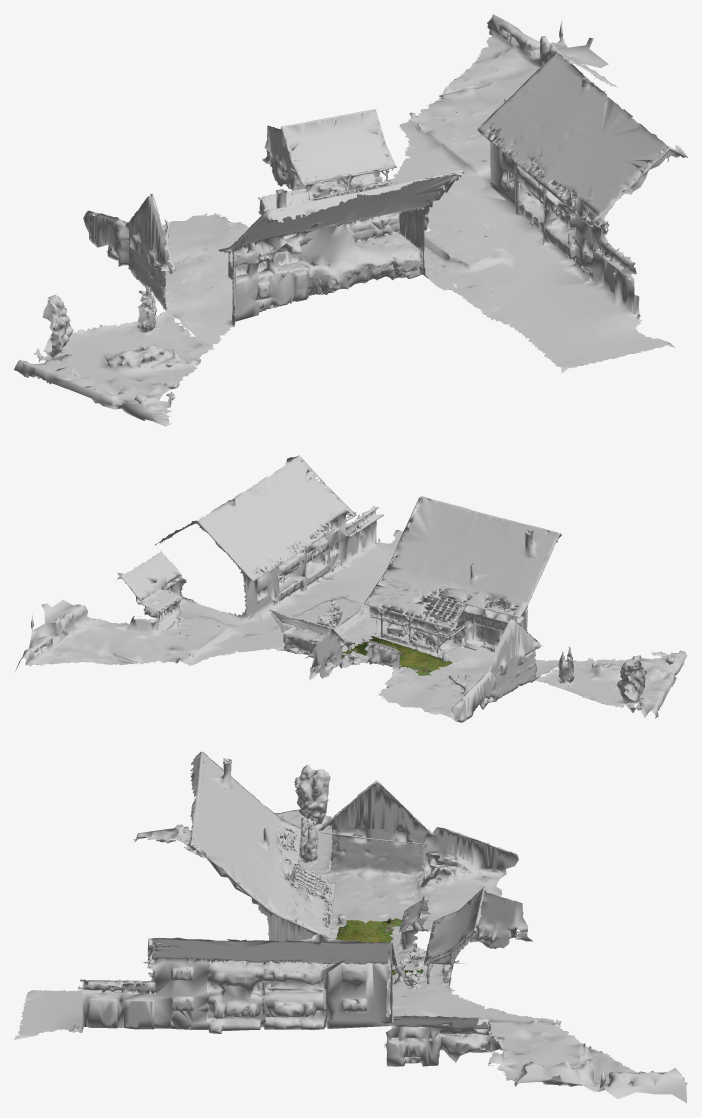
The model's file is Town.fbx.
3 renders of one model, top to bottom at view 1: azimuth 30°, elevation 25°; view 2: azimuth 150°, elevation 25°; view 3: azimuth 270°, elevation 25°, orthographic. The views are drawn at different scales.
Parts seen in each view (by area): view 1: model.005, model.004, model.007, model.008, model.002, model.011, model.009, model.006, model.003, model.010, model.012, model.013; view 2: model.006, model.005, model.003, model.008, model.002, model.004, model.007, model.009, model.010, model.011, model.012, model.001 (+1 smaller); view 3: model.005, model.006, model.009, model.004, model.002, model.003, model.010, model.011, model.007, model.008, model.013, model.001 (+1 smaller).
Part boxes in pixels (left/top/right/bottom): model.005: left=433, top=96, right=687, bottom=373; model.004: left=427, top=59, right=606, bottom=262; model.007: left=14, top=285, right=208, bottom=426; model.008: left=211, top=208, right=483, bottom=334; model.002: left=399, top=14, right=608, bottom=156; model.011: left=262, top=109, right=397, bottom=200; model.009: left=128, top=193, right=232, bottom=349; model.006: left=218, top=170, right=464, bottom=262; model.003: left=389, top=51, right=617, bottom=210; model.010: left=83, top=210, right=249, bottom=270; model.012: left=388, top=182, right=451, bottom=265; model.013: left=258, top=179, right=332, bottom=215; model.006: left=381, top=496, right=561, bottom=617; model.005: left=244, top=455, right=403, bottom=619; model.003: left=116, top=516, right=283, bottom=653; model.008: left=357, top=575, right=544, bottom=662; model.002: left=15, top=600, right=234, bottom=671; model.004: left=205, top=492, right=363, bottom=626; model.007: left=538, top=646, right=687, bottom=718; model.009: left=419, top=617, right=567, bottom=699; model.010: left=378, top=663, right=496, bottom=722; model.011: left=269, top=609, right=355, bottom=680; model.012: left=316, top=599, right=372, bottom=651; model.001: left=342, top=636, right=452, bottom=675; model.005: left=14, top=937, right=284, bottom=1039; model.006: left=187, top=751, right=301, bottom=919; model.009: left=294, top=780, right=428, bottom=923; model.004: left=264, top=934, right=396, bottom=1029; model.002: left=485, top=1008, right=687, bottom=1102; model.003: left=372, top=942, right=494, bottom=1066; model.010: left=406, top=827, right=518, bottom=929; model.011: left=418, top=886, right=532, bottom=992; model.007: left=133, top=764, right=333, bottom=874; model.008: left=267, top=836, right=346, bottom=941; model.013: left=390, top=896, right=433, bottom=970; model.001: left=335, top=918, right=423, bottom=975.
Bounding box in the file's own units: 5061 × 1150 × 4316.
